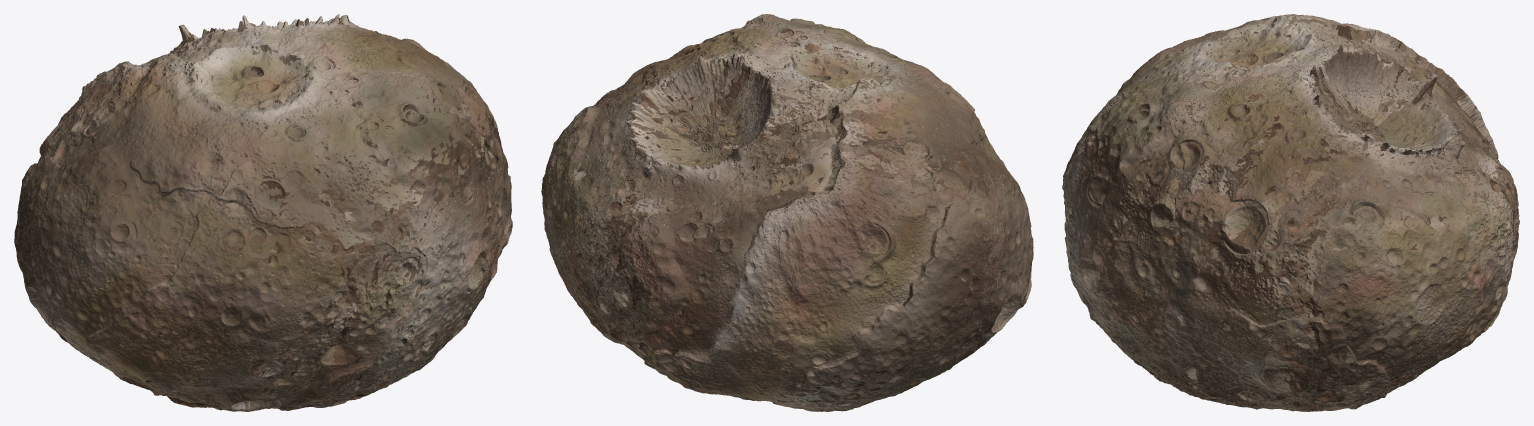
Rendered from asteroid-lowpoly.glb.
3 views of the same model, side by side, from view 1: azimuth 30°, elevation 25°; view 2: azimuth 150°, elevation 25°; view 3: azimuth 270°, elevation 25° (orthographic). The views are drawn at different scales.
Visible parts, largest first — view 1: PsycheLowPoly; view 2: PsycheLowPoly; view 3: PsycheLowPoly.
Part boxes in pixels (<box>): PsycheLowPoly: <box>14,14,512,411</box>; PsycheLowPoly: <box>541,14,1033,411</box>; PsycheLowPoly: <box>1062,14,1519,411</box>.
Bounding box in the file's own units: 3 × 2.12 × 2.58.
1 material, 1 textured.
